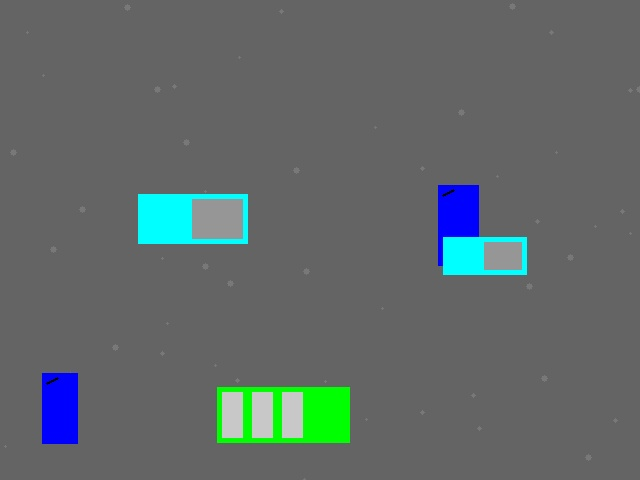bus: (217, 387, 349, 442)
motorcycle: (438, 185, 478, 265), (42, 373, 77, 443)
truck: (138, 194, 247, 243), (443, 237, 526, 274)
